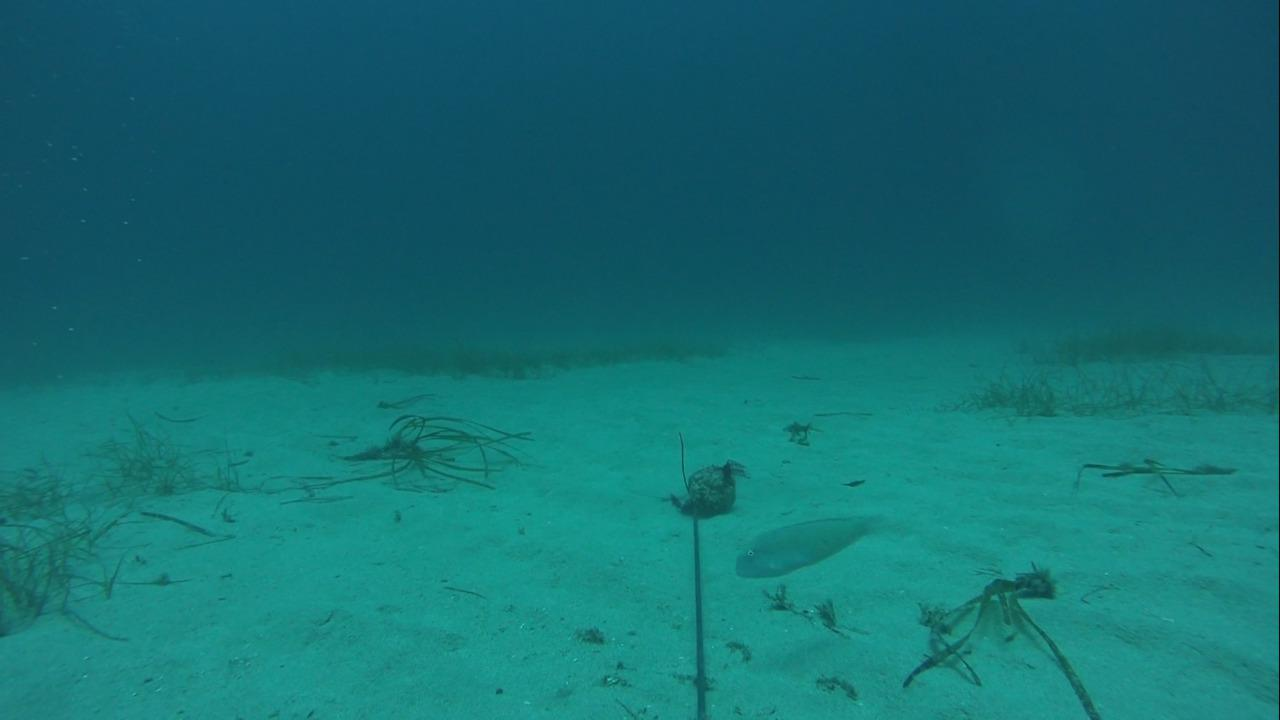raor: (730, 511, 890, 579)
